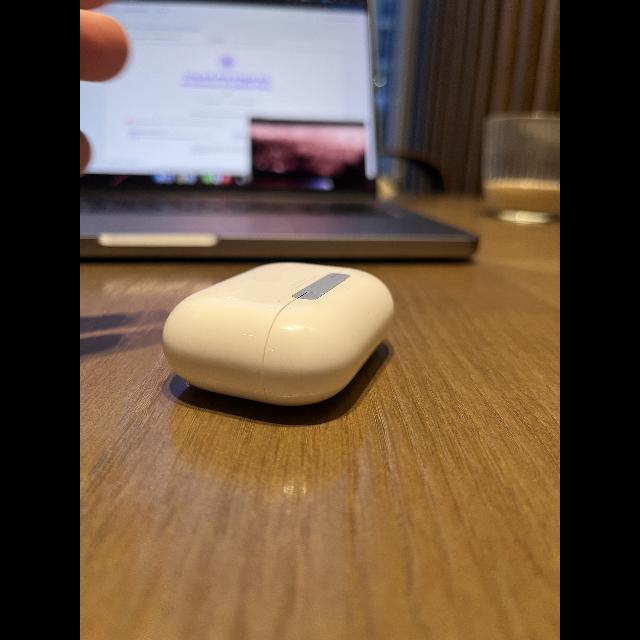AirPods Pro: (160, 255, 396, 422)
